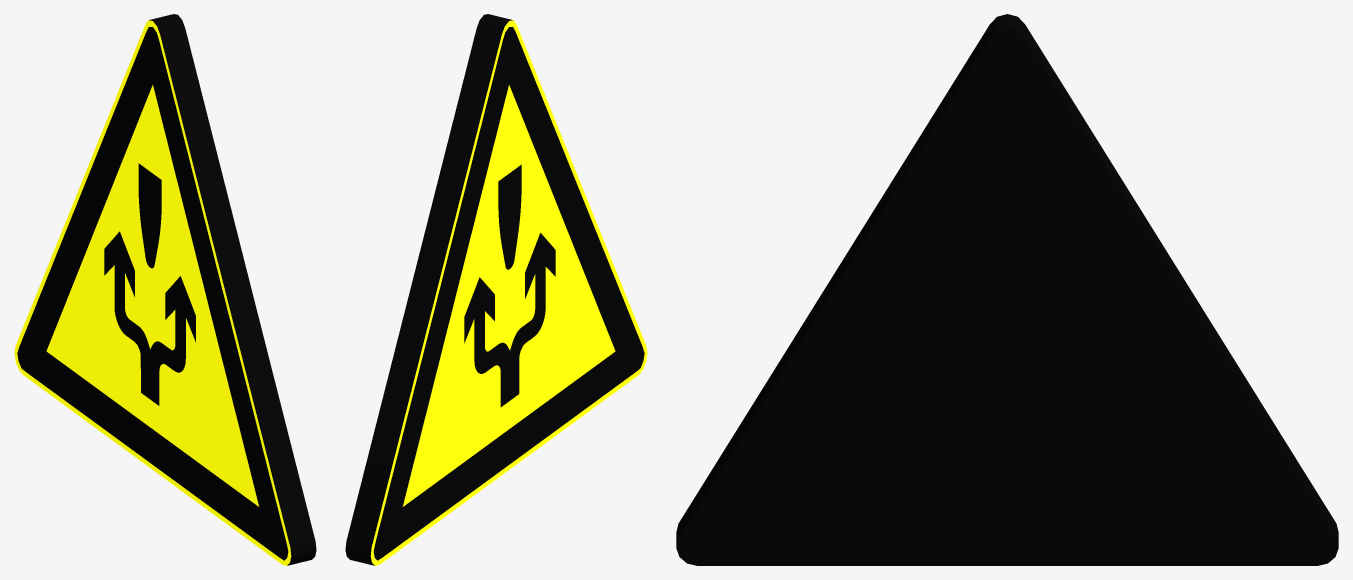
File: Detour_On_The_LeftAndRight.glb
The picture shows the model from 3 angles, left to right: view 1: azimuth 30°, elevation 25°; view 2: azimuth 150°, elevation 25°; view 3: azimuth 270°, elevation 25°; orthographic projection. The views are drawn at different scales.
Parts seen in each view (by area): view 1: Detour_On_The_LeftAndRight; view 2: Detour_On_The_LeftAndRight; view 3: Detour_On_The_LeftAndRight.
Part boxes in pixels (x1,y1,x2,y2): Detour_On_The_LeftAndRight: [14, 14, 316, 565]; Detour_On_The_LeftAndRight: [345, 14, 647, 565]; Detour_On_The_LeftAndRight: [676, 14, 1338, 565].
Size of the model in its own units: 0.0643 by 1.02 by 1.14.
